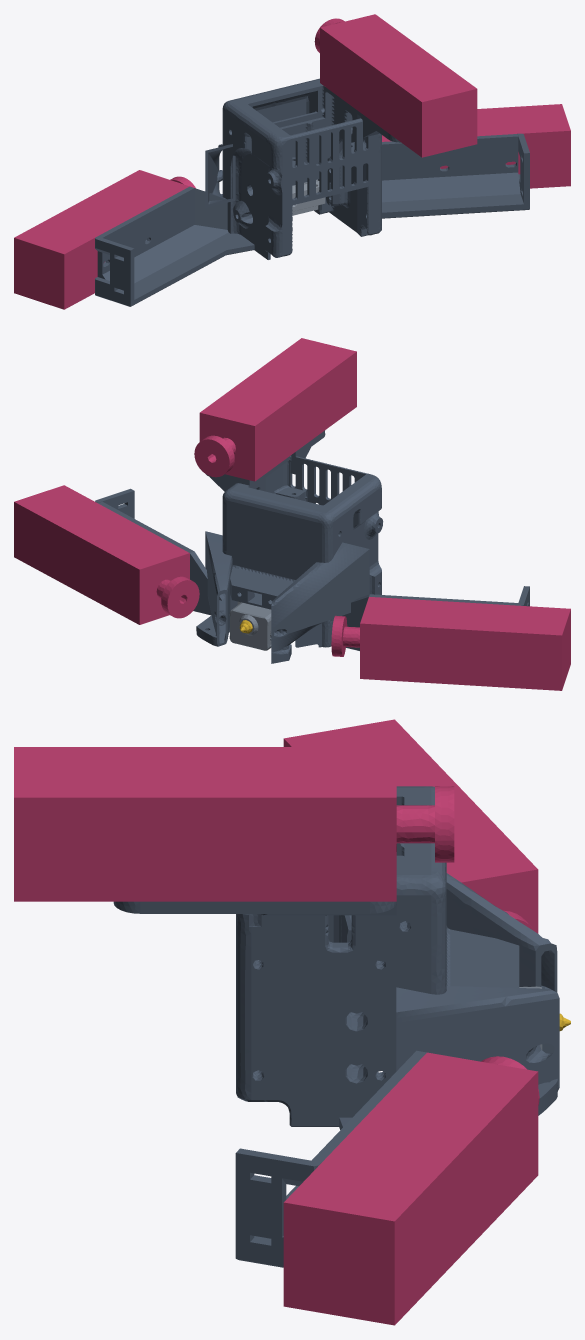
Rendered from toolhead_aligned.glb.
The picture shows the model from 3 angles, top to bottom: view 1: azimuth 30°, elevation 25°; view 2: azimuth 150°, elevation 25°; view 3: azimuth 270°, elevation 25°; orthographic projection. The views are drawn at different scales.
Visible parts, largest first — view 1: mounting_bracket, laser_top_module, laser_left_module, laser_right_module, hotend_heatsink; view 2: mounting_bracket, laser_left_module, laser_right_module, laser_top_module, hotend_part_6; view 3: mounting_bracket, laser_top_module, laser_right_module, laser_left_module.
Part boxes in pixels (bbox=[...]): mounting_bracket: bbox=[95, 78, 529, 306]; laser_top_module: bbox=[314, 14, 477, 157]; laser_left_module: bbox=[14, 170, 195, 309]; laser_right_module: bbox=[382, 104, 570, 188]; hotend_heatsink: bbox=[292, 179, 325, 215]; mounting_bracket: bbox=[95, 430, 529, 663]; laser_left_module: bbox=[331, 597, 570, 690]; laser_right_module: bbox=[14, 485, 199, 624]; laser_top_module: bbox=[194, 338, 356, 481]; hotend_part_6: bbox=[229, 602, 271, 650]; mounting_bracket: bbox=[113, 786, 559, 1267]; laser_top_module: bbox=[14, 747, 454, 901]; laser_right_module: bbox=[283, 1052, 539, 1325]; laser_left_module: bbox=[283, 719, 538, 933].
Bounding box in the file's own units: 310 × 104 × 146.
